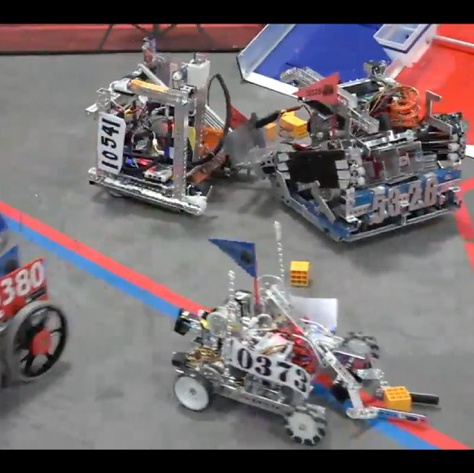robot: (158, 216, 420, 444), (244, 58, 468, 246), (78, 42, 230, 214), (4, 196, 72, 400)
